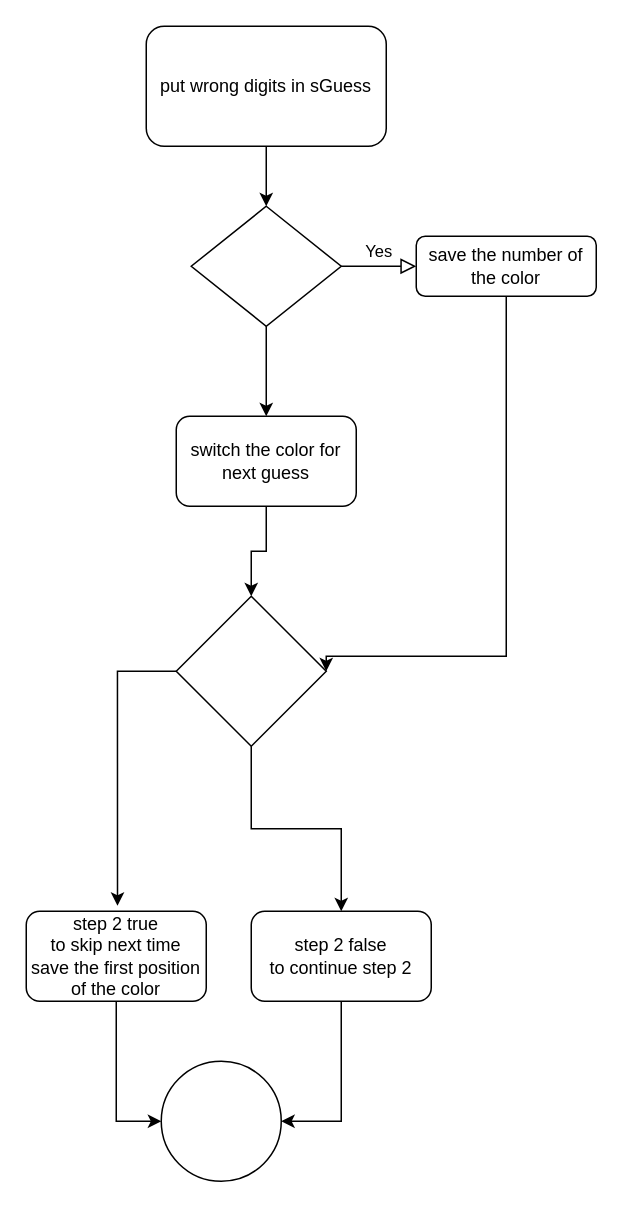
The diagram is 623 pixels wide and 1208 high, and some of its shapes have lost their labels. The box of each missing label's shape, as (x1, y1, x2, y2) in pixels:
if color was found: (175, 595, 326, 746)
location of first color is correct: (190, 205, 341, 326)
next step: (160, 1060, 281, 1181)
